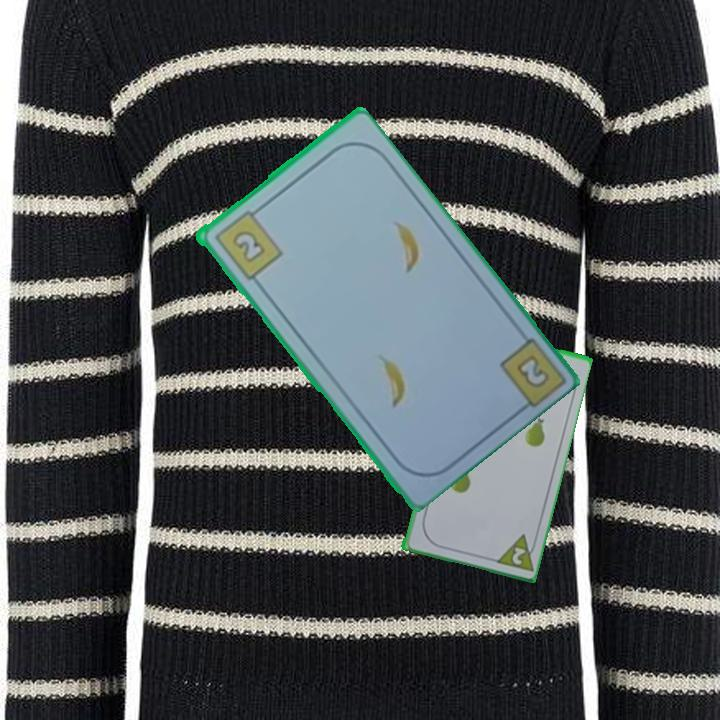2b: (210, 203, 285, 283), (511, 351, 552, 392)
2p: (490, 530, 540, 574)
